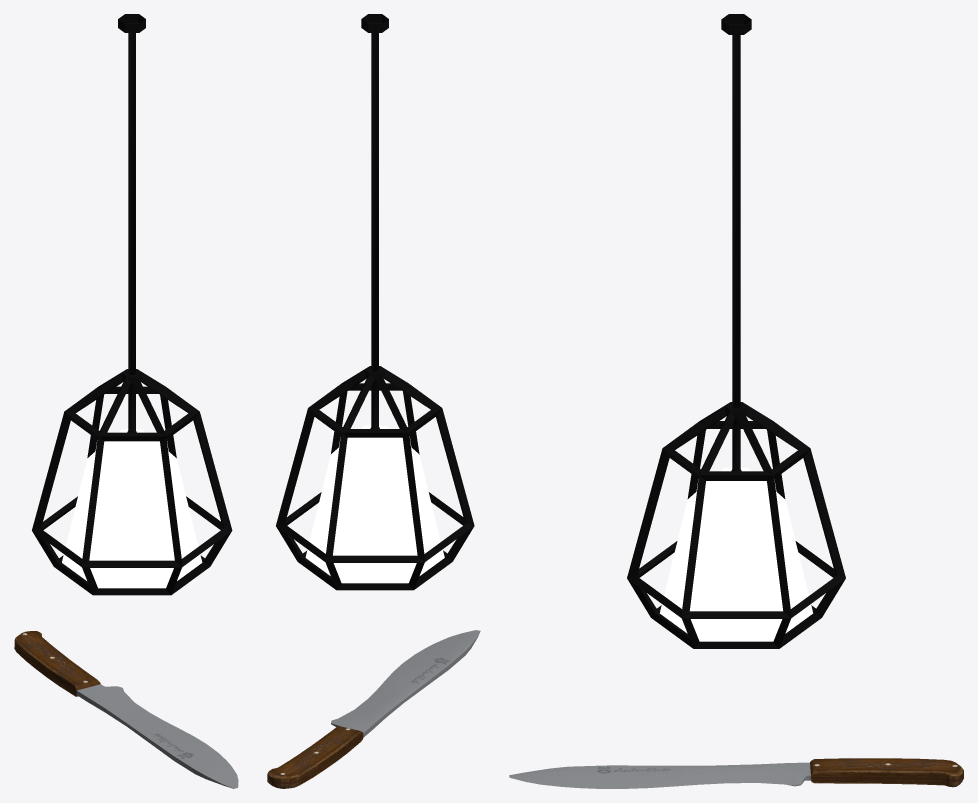
3 renders of one model, left to right at view 1: azimuth 30°, elevation 25°; view 2: azimuth 150°, elevation 25°; view 3: azimuth 270°, elevation 25°, orthographic. The views are drawn at different scales.
Visible parts, largest first — view 1: LightFixture, Knife; view 2: LightFixture, Knife; view 3: LightFixture, Knife.
Part boxes in pixels (x1=…): LightFixture: x1=32, y1=14, x2=232, y2=595; Knife: x1=14, y1=631, x2=238, y2=788; LightFixture: x1=276, y1=14, x2=474, y2=590; Knife: x1=267, y1=630, x2=480, y2=788; LightFixture: x1=627, y1=14, x2=845, y2=648; Knife: x1=509, y1=758, x2=963, y2=788.
Bounding box in the file's own units: 0.2453 × 1.09 × 0.5878.
2 materials, 2 textured.
